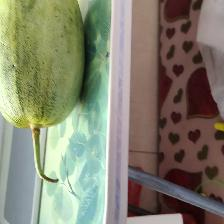gua: (10, 11, 69, 148)
